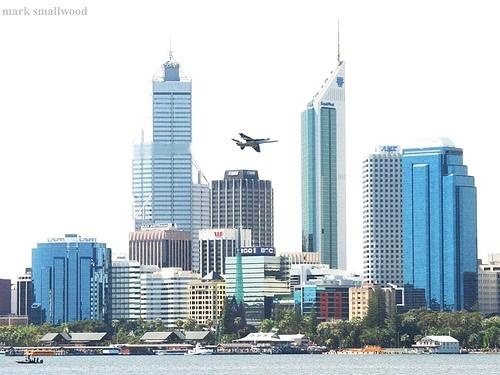aeroplane: (231, 131, 278, 155)
boat: (15, 357, 46, 367)
